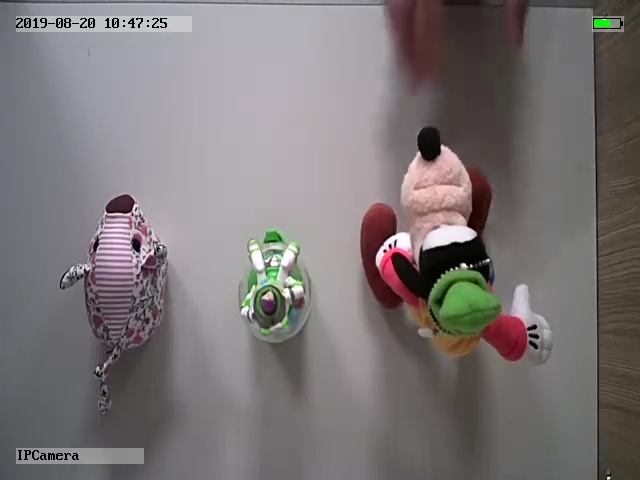buzz: (234, 228, 316, 348)
goofy: (357, 124, 555, 372)
pig: (56, 193, 171, 413)
